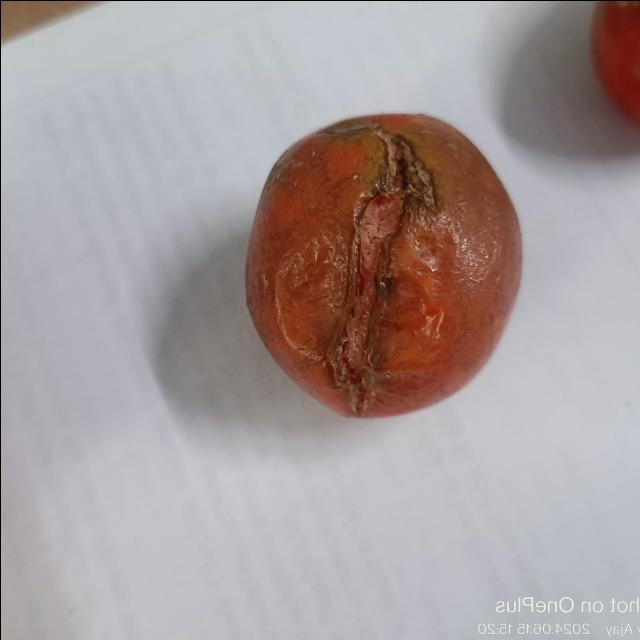tomato_cracking: (318, 112, 445, 406)
